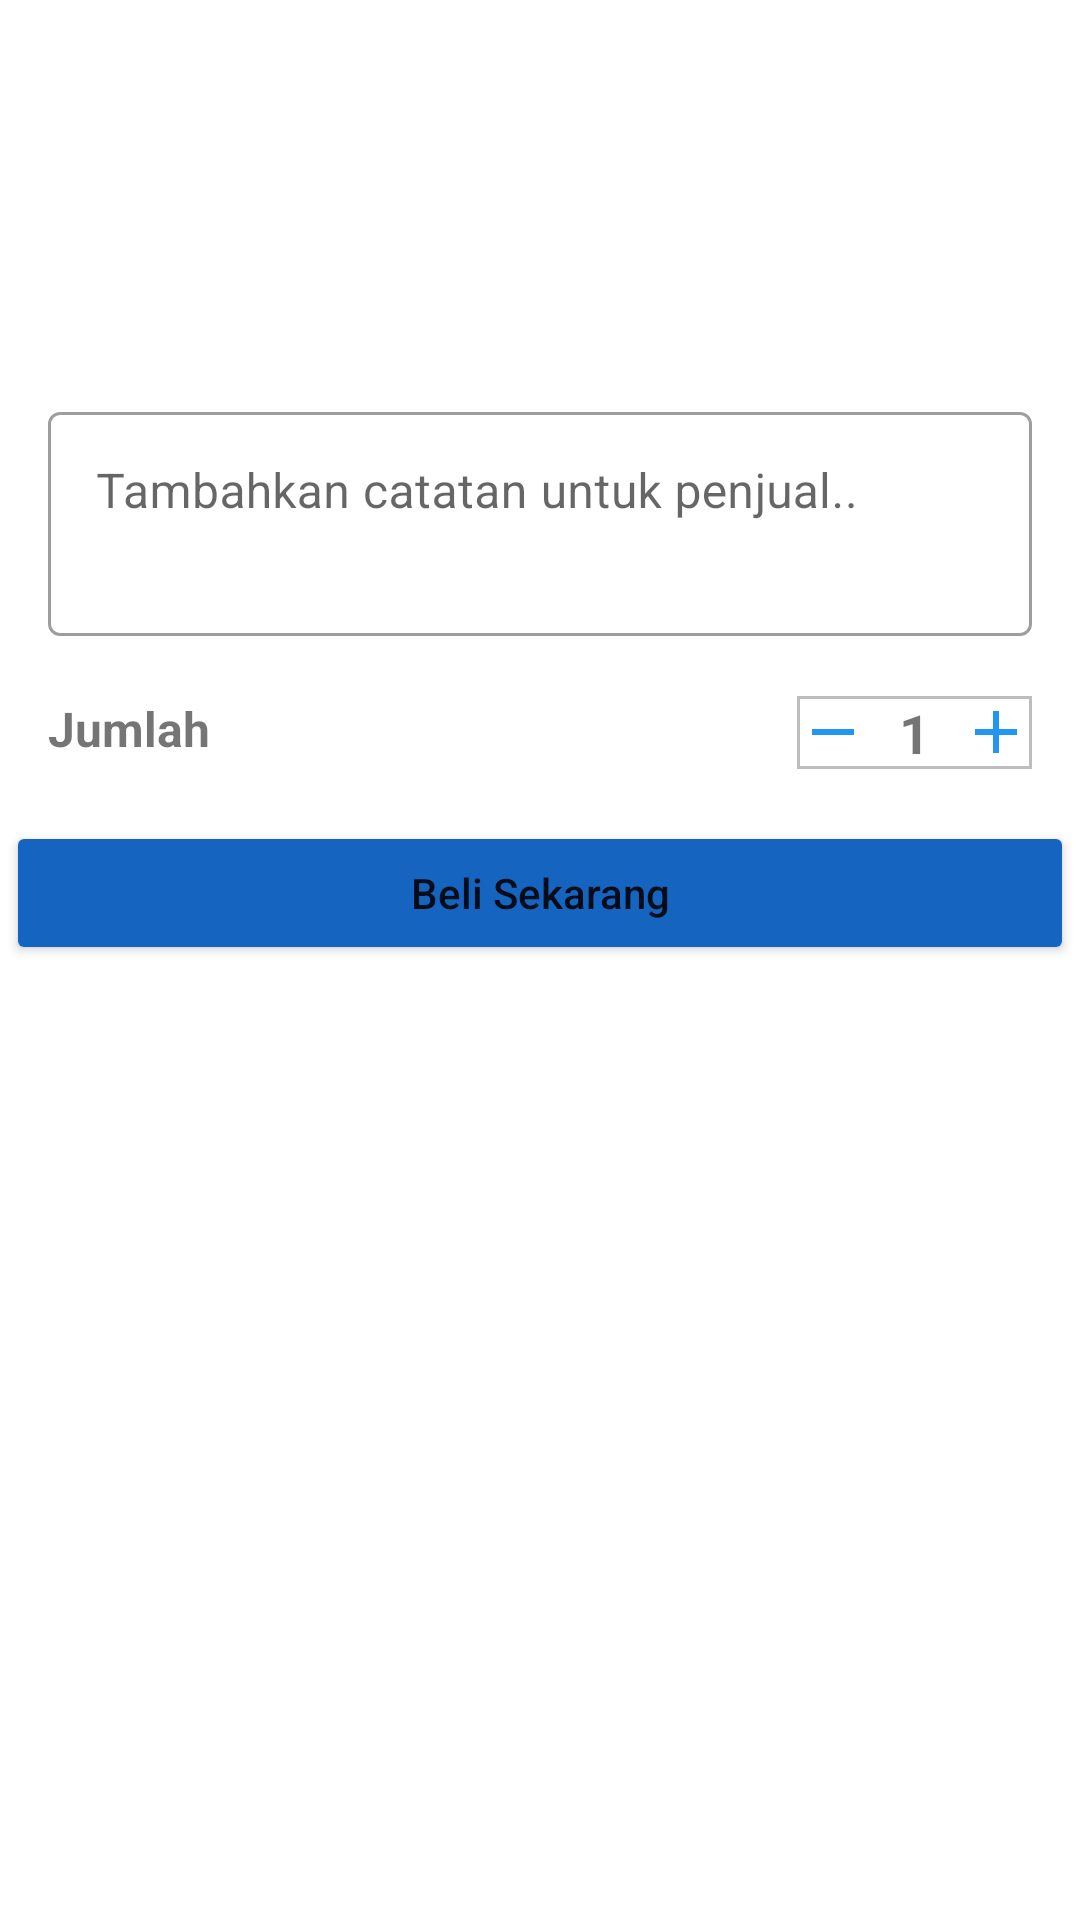

Icon click points for this 1080px x 1920px phone screenshot, format [x,y]:
minus: [833,732]
plus: [996,732]
